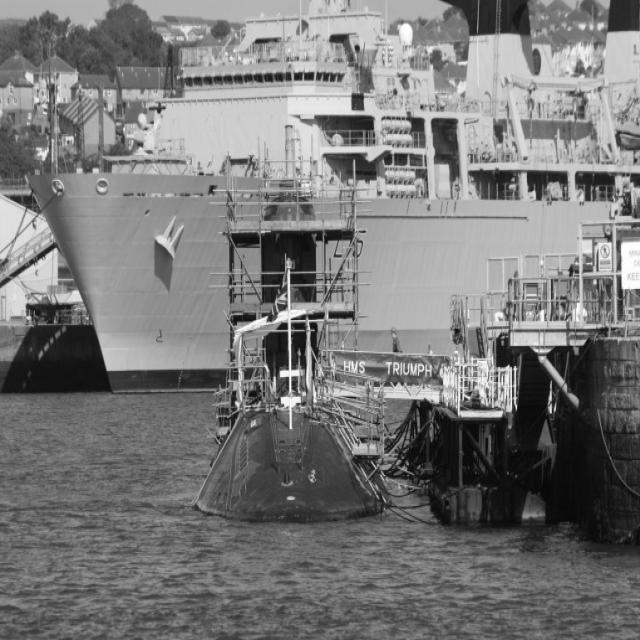submarine: (195, 398, 390, 527)
